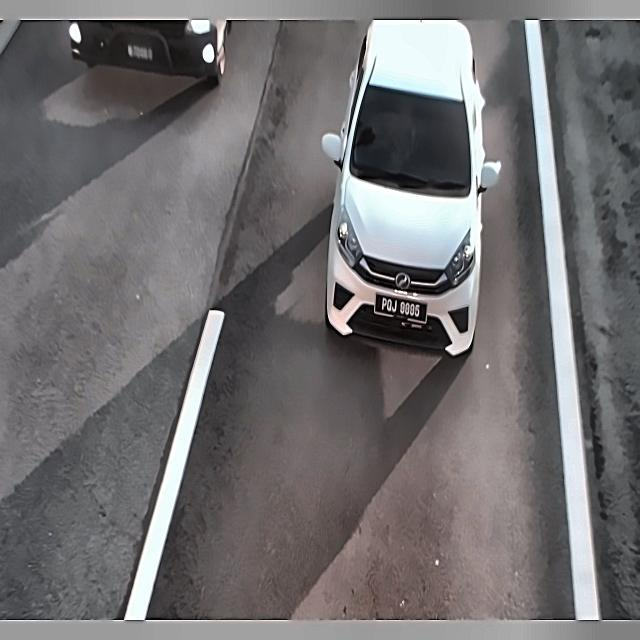car: (377, 285, 426, 331), (114, 38, 163, 74)
